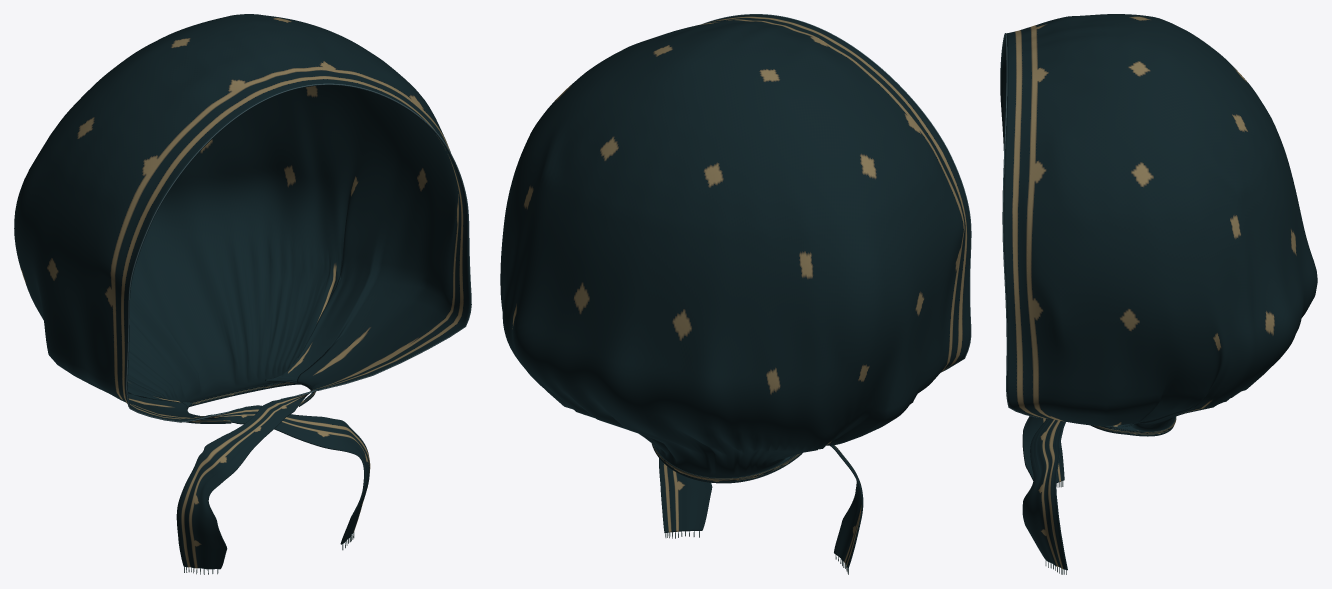
The model's file is Feminine-bob-tshirt-pashmina249-headgear.glb.
3 renders of one model, left to right at view 1: azimuth 30°, elevation 25°; view 2: azimuth 150°, elevation 25°; view 3: azimuth 270°, elevation 25°, orthographic. The views are drawn at different scales.
Parts seen in each view (by area): view 1: 226 headgear / Headwear / continuous woven pashmina239, 226 headgear / Headwear / face edge239; view 2: 226 headgear / Headwear / continuous woven pashmina239, 226 headgear / Headwear / face edge239; view 3: 226 headgear / Headwear / continuous woven pashmina239, 226 headgear / Headwear / face edge239.
Boxes of the visible parts, x1,y1,x2,y2 form: 226 headgear / Headwear / continuous woven pashmina239: (14, 14, 470, 569); 226 headgear / Headwear / face edge239: (126, 83, 471, 422); 226 headgear / Headwear / continuous woven pashmina239: (500, 14, 970, 568); 226 headgear / Headwear / face edge239: (703, 14, 971, 372); 226 headgear / Headwear / continuous woven pashmina239: (1000, 14, 1317, 570); 226 headgear / Headwear / face edge239: (1000, 33, 1044, 418).
Bounding box in the file's own units: 1.08 × 1.41 × 0.806.
Materials: 3 (1 with a texture image).
